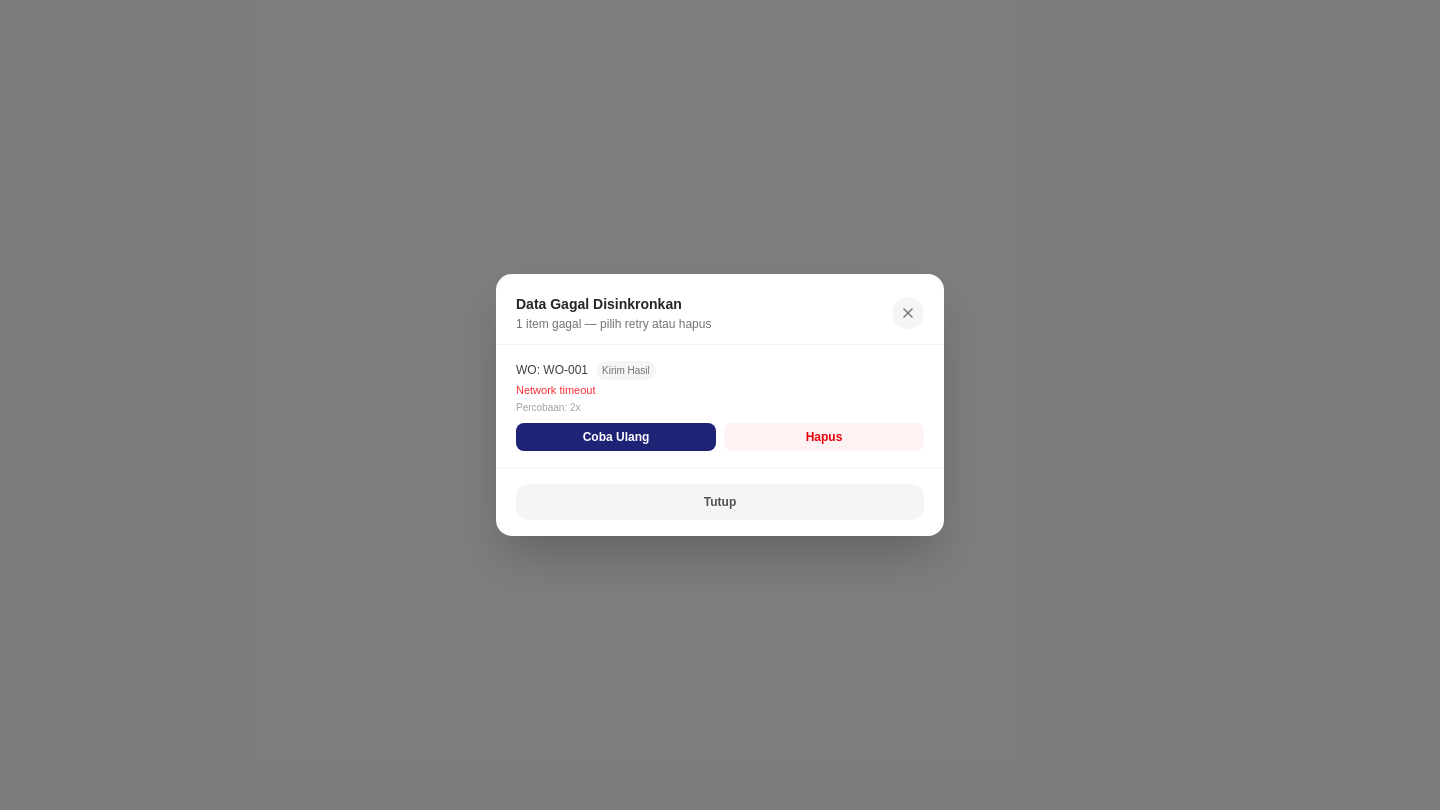
Test: PendingItemsModal › cancels delete confirmation when 'Batal' is clicked
The width and height of the screenshot is (1440, 810).
Click the button "Hapus": (824, 437) [724,423,924,451]
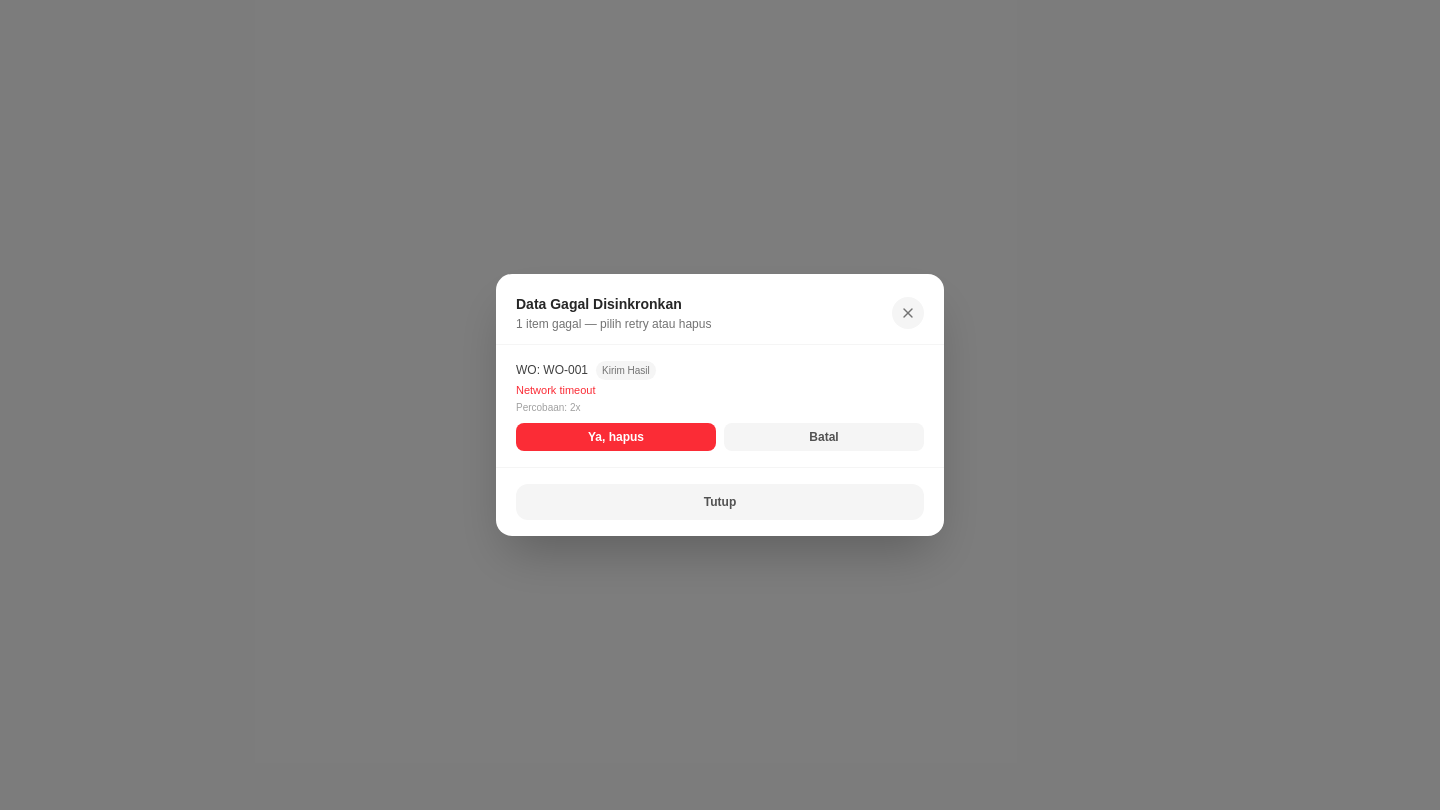
Click the button "Batal": (824, 437) [724,423,924,451]
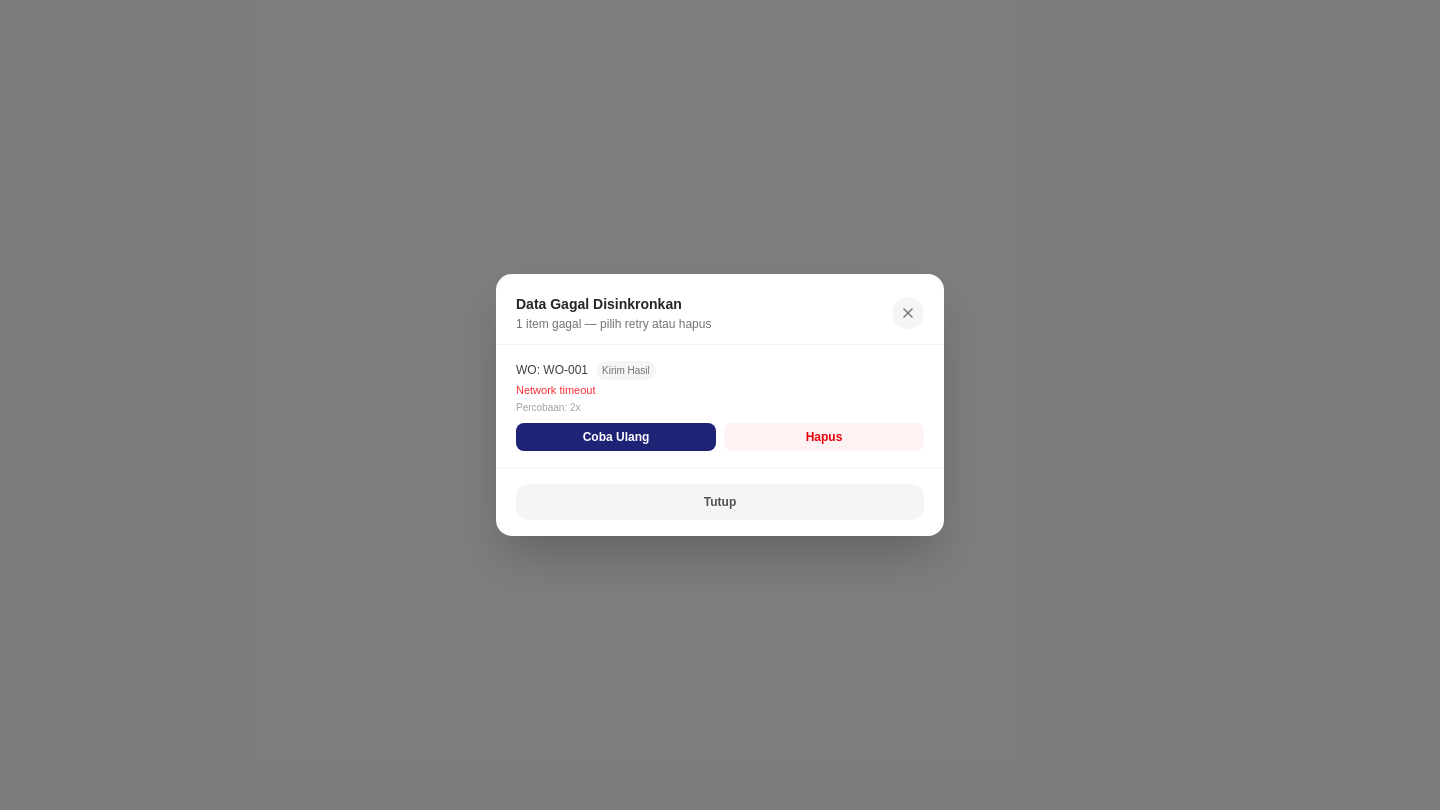
Expected: the button "Coba Ulang" is shown, [516,423,716,451]
